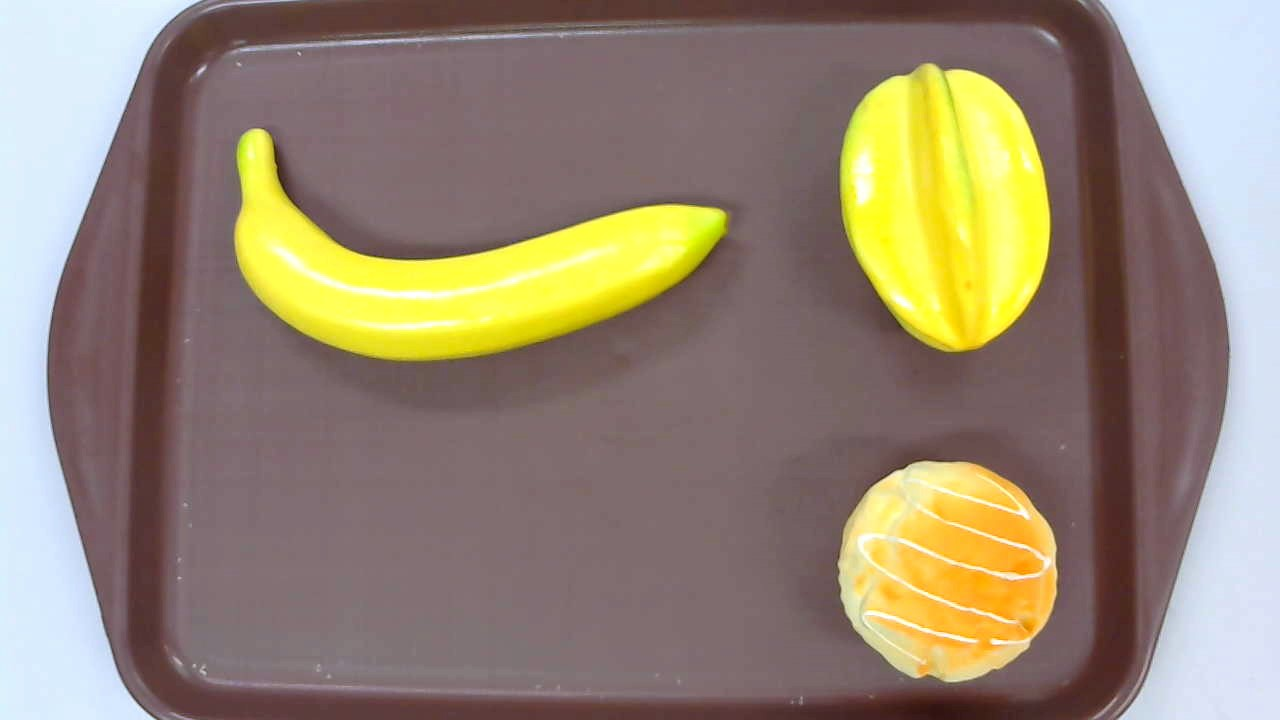banana: (233, 128, 733, 364)
cupcake: (837, 461, 1059, 682)
star fruit: (837, 61, 1051, 352)
